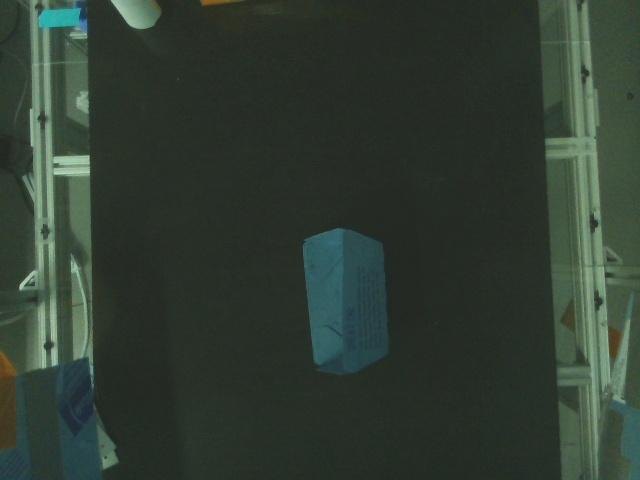cardboard: (299, 226, 393, 380), (107, 0, 167, 32), (194, 0, 253, 12)
